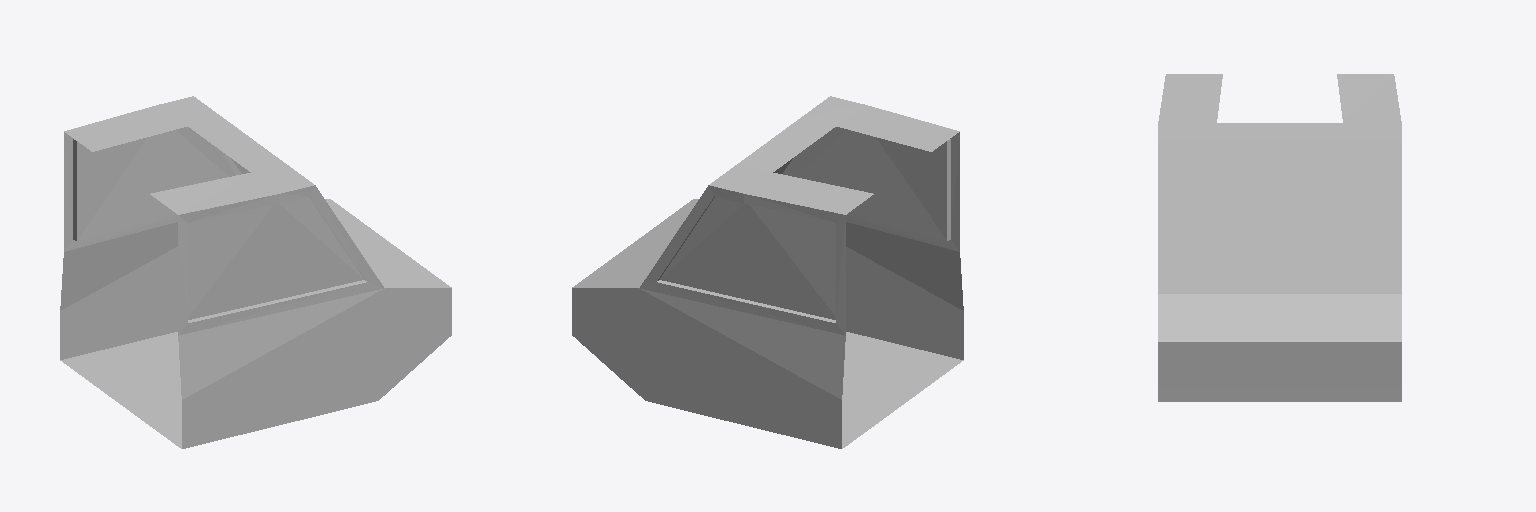
The model's file is Front.obj.
The picture shows the model from 3 angles: view 1: azimuth 30°, elevation 25°; view 2: azimuth 150°, elevation 25°; view 3: azimuth 270°, elevation 25°; orthographic projection.
Visible parts, largest first — view 1: Front_Cube1.007; view 2: Front_Cube1.007; view 3: Front_Cube1.007.
Boxes of the visible parts, x1,y1,x2,y2 form: Front_Cube1.007: [60, 96, 451, 448]; Front_Cube1.007: [572, 96, 963, 448]; Front_Cube1.007: [1158, 74, 1401, 401].
Size of the model in its own units: 1.78 by 1.46 by 1.39.